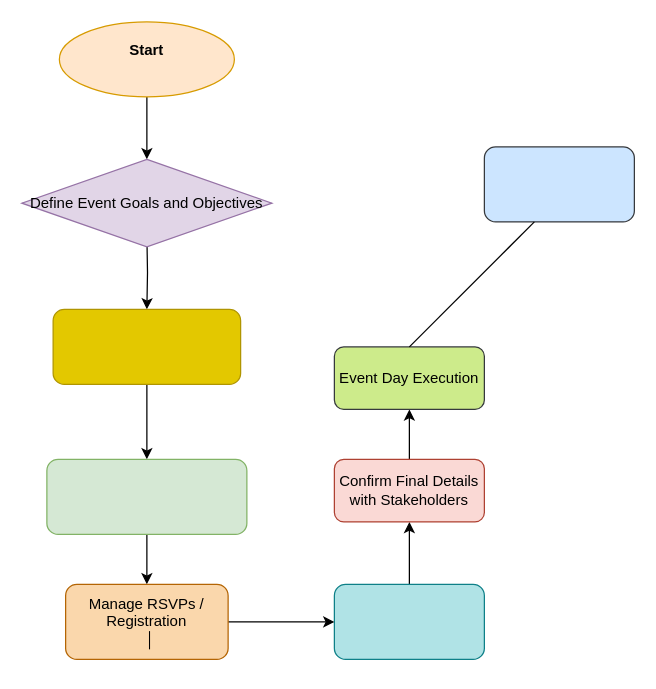
The diagram is 656 pixels wide and 689 high, and some of its shapes have lost their labels. Here are the shapes that lost their labels. From the top down, the box of each, then its label:
(52, 308, 241, 384): Choose Date and Venue
(46, 458, 247, 534): Book Vendors & Services
(333, 583, 484, 659): Collect Feedback
